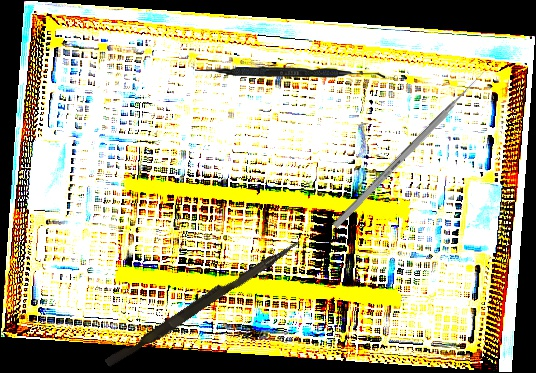Pusher: (104, 232, 302, 373), (332, 68, 488, 230)
Spatula Surgical: (195, 67, 385, 78)
